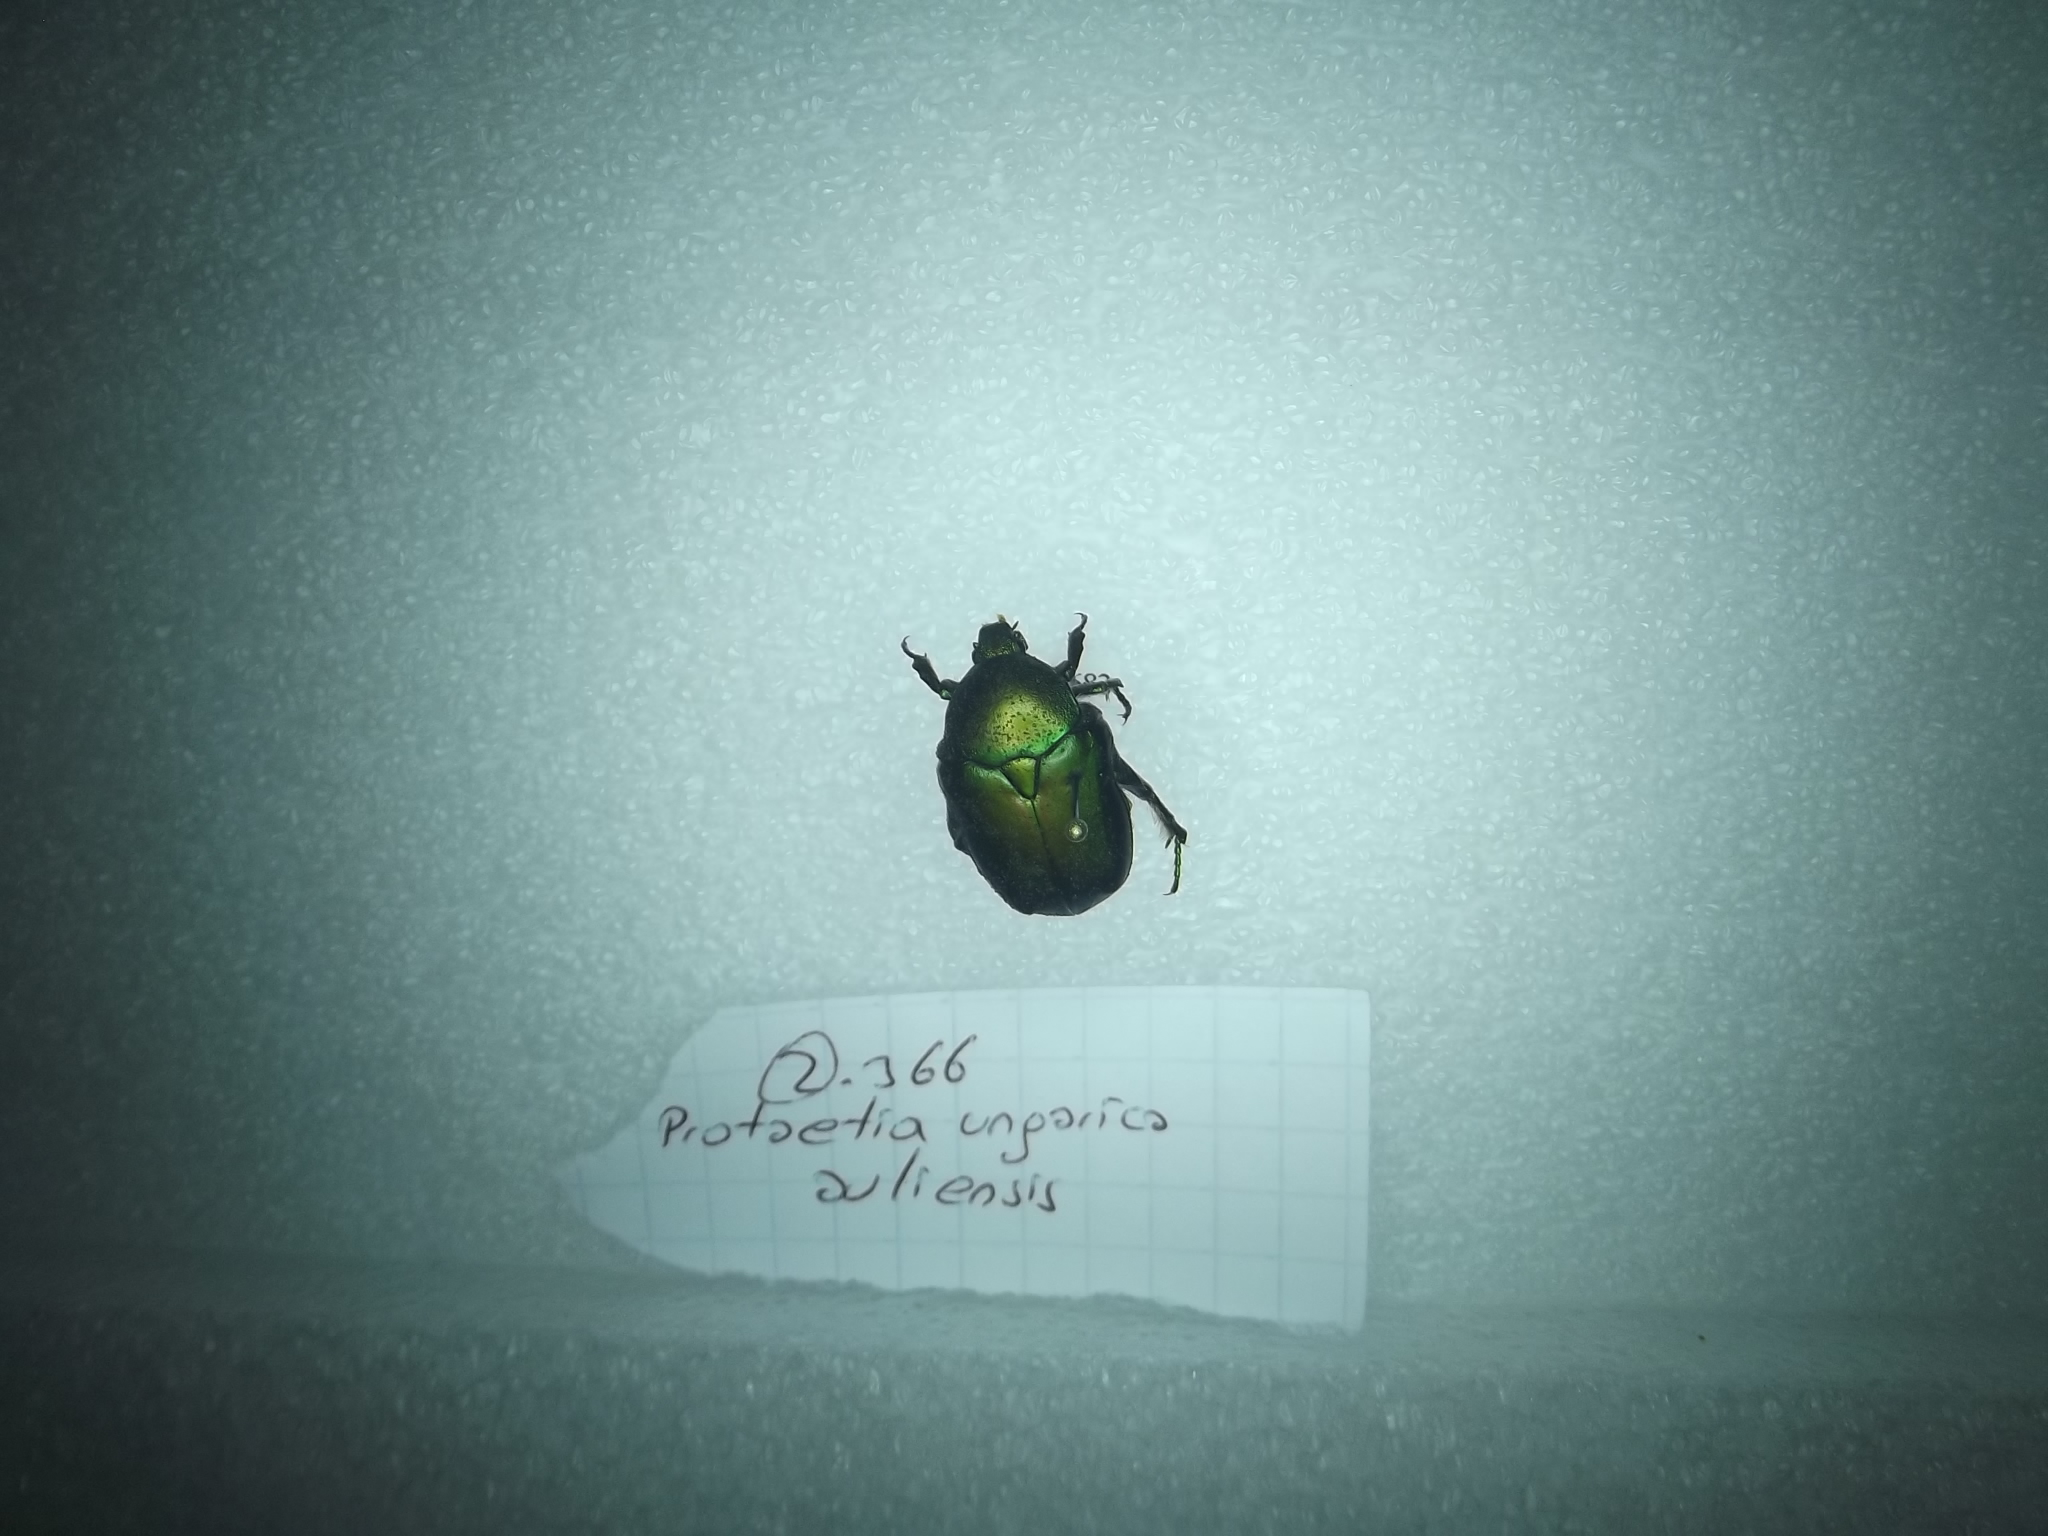Protaetia_ungarica_auliensis: (905, 586, 1206, 942)
